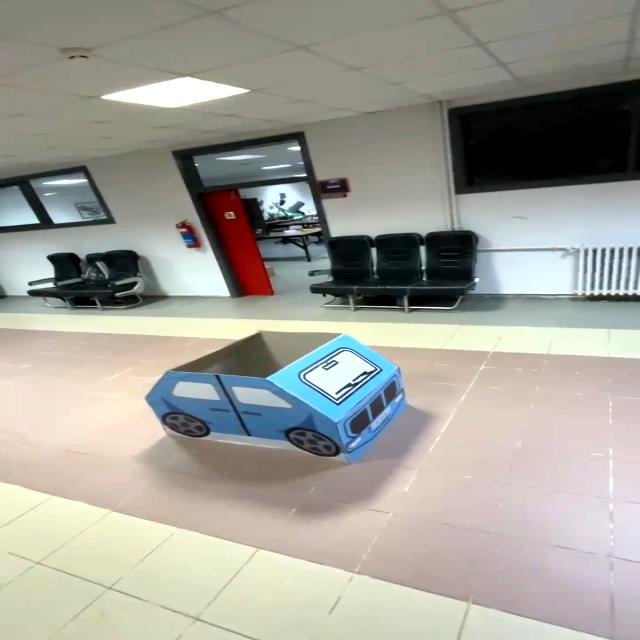blue_car: (114, 320, 435, 465)
